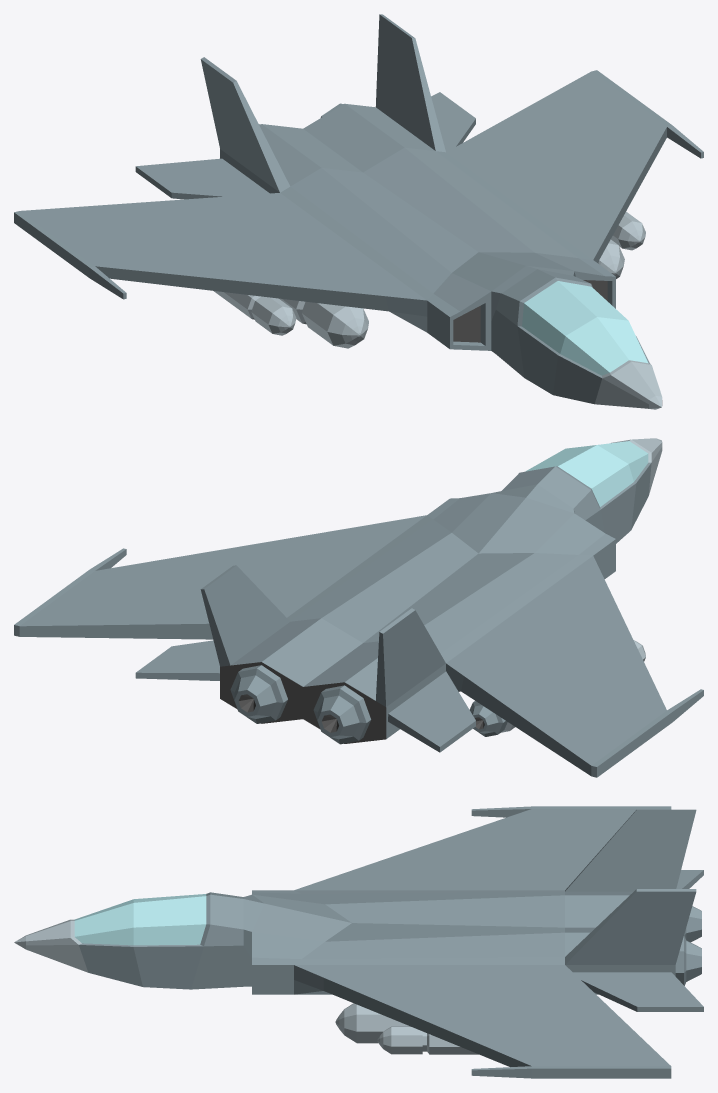
File: Jet_01.gltf
The picture shows the model from 3 angles, top to bottom: view 1: azimuth 30°, elevation 25°; view 2: azimuth 150°, elevation 25°; view 3: azimuth 270°, elevation 25°; orthographic projection. The views are drawn at different scales.
Visible parts, largest first — view 1: node-0; view 2: node-0; view 3: node-0.
Part boxes in pixels (x1,y1,x2,y2): node-0: (14,14,703,409); node-0: (14,438,703,777); node-0: (14,806,703,1078).
Bounding box in the file's own units: 9.95 × 2.4 × 11.07.
